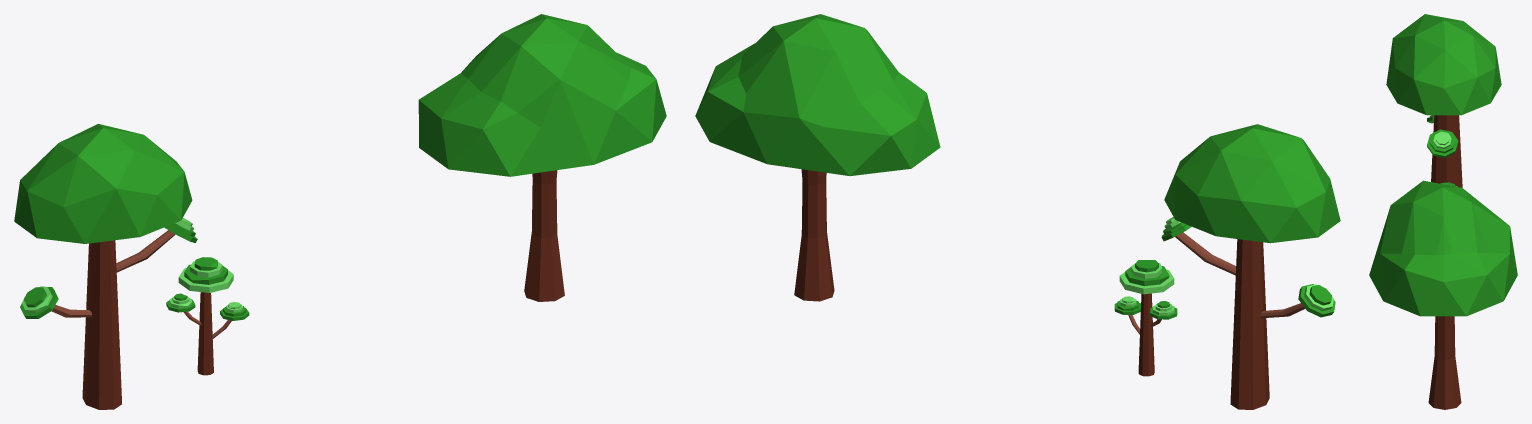
Rendered from Trees2.fbx.
3 views of the same model, side by side, from view 1: azimuth 30°, elevation 25°; view 2: azimuth 150°, elevation 25°; view 3: azimuth 270°, elevation 25° (orthographic). The views are drawn at different scales.
Visible parts, largest first — view 1: Cylinder.022, Cylinder.017, Cylinder.018; view 2: Cylinder.022, Cylinder.017, Cylinder.018; view 3: Cylinder.022, Cylinder.017.
Part boxes in pixels (<box>): Cylinder.022: <box>418,14,666,301</box>; Cylinder.017: <box>14,124,197,409</box>; Cylinder.018: <box>166,257,249,375</box>; Cylinder.022: <box>695,14,940,301</box>; Cylinder.017: <box>1161,124,1340,409</box>; Cylinder.018: <box>1114,260,1177,376</box>; Cylinder.022: <box>1369,180,1517,409</box>; Cylinder.017: <box>1386,14,1501,187</box>.
Bounding box in the file's own units: 9621 × 4047 × 2521.
